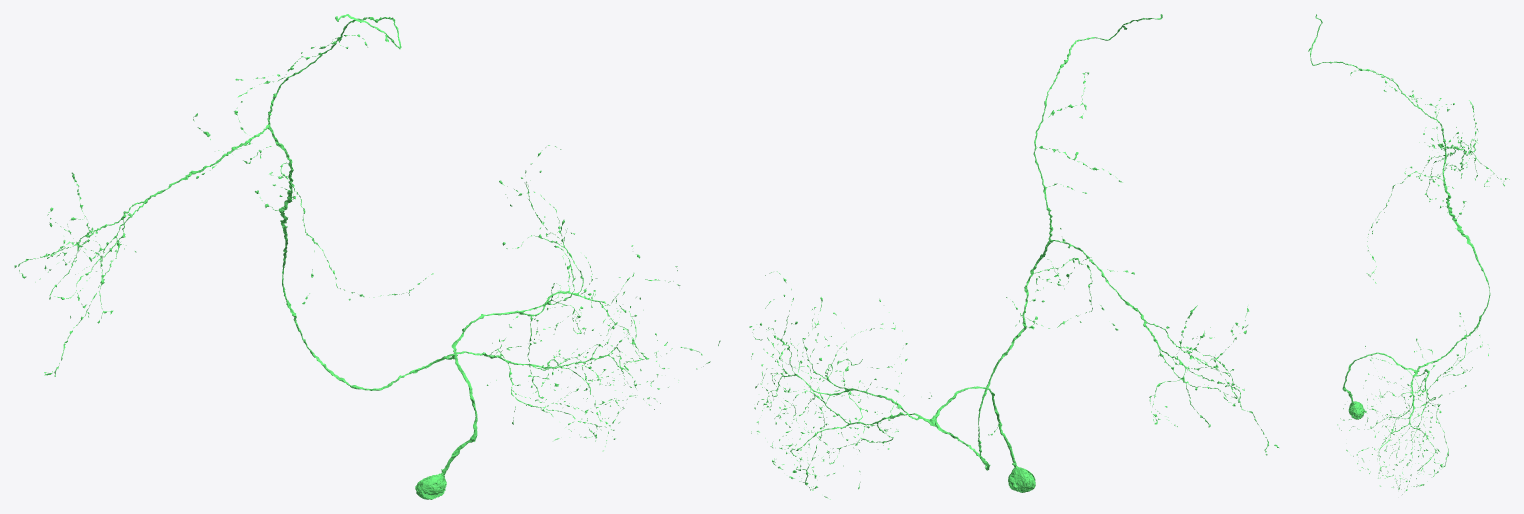
The model's file is VFB_fw029979.glb.
3 views of the same model, side by side, from view 1: azimuth 30°, elevation 25°; view 2: azimuth 150°, elevation 25°; view 3: azimuth 270°, elevation 25° (orthographic). The views are drawn at different scales.
Parts seen in each view (by area): view 1: VFB_fw029979; view 2: VFB_fw029979; view 3: VFB_fw029979.
Boxes of the visible parts, x1,y1,x2,y2 form: VFB_fw029979: (14,14,720,499); VFB_fw029979: (749,14,1278,499); VFB_fw029979: (1308,14,1509,494).
Size of the model in its own units: 0.2851 by 0.2414 by 0.1168.
